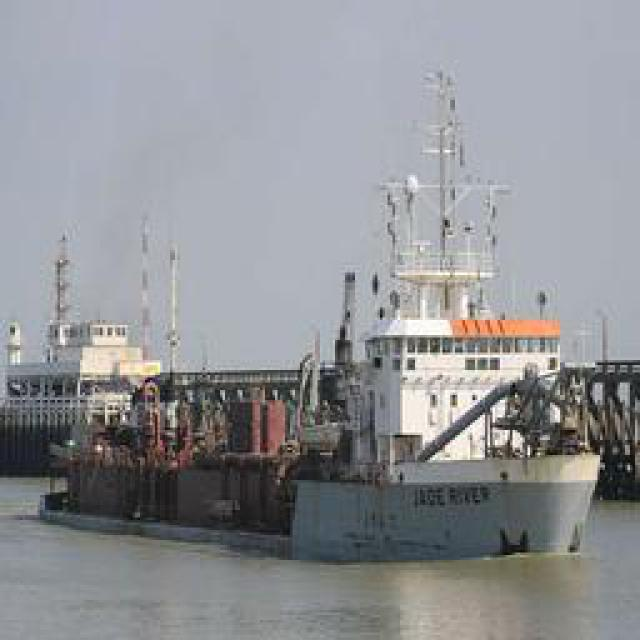Ship: (17, 62, 603, 553)
